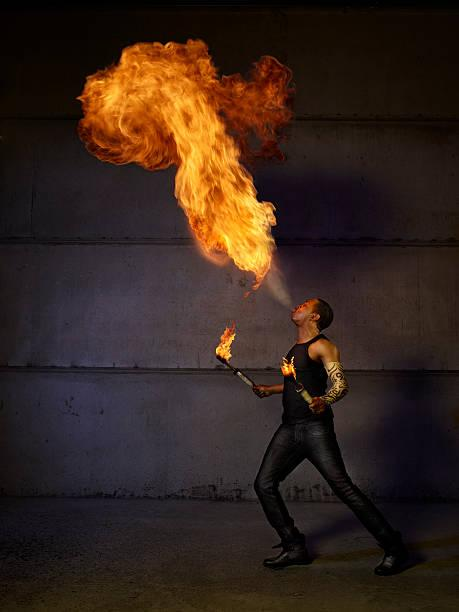Fire: (80, 31, 287, 300)
